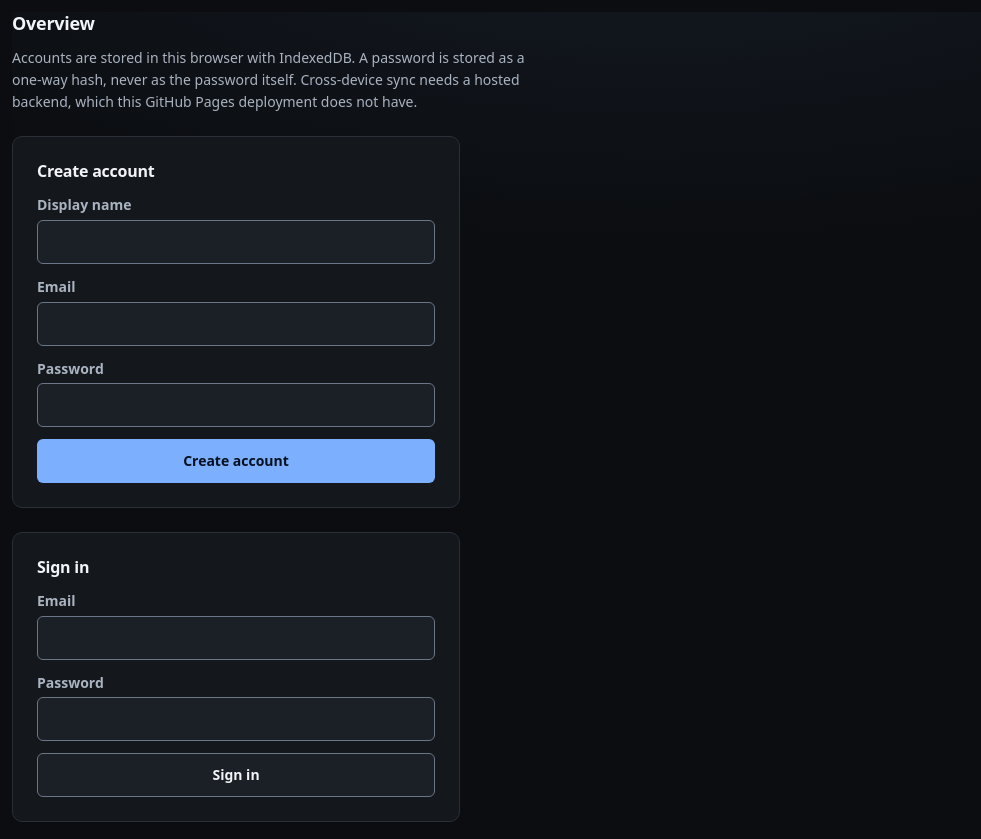
Test: account settings › creates an account and then offers sign out
Check: the heading "Create account" is shown, box x1=37 y1=160 x2=154 y2=182
Type "Alex" into the field labelled "Display name" at (236, 242), box x1=37 y1=220 x2=435 y2=264
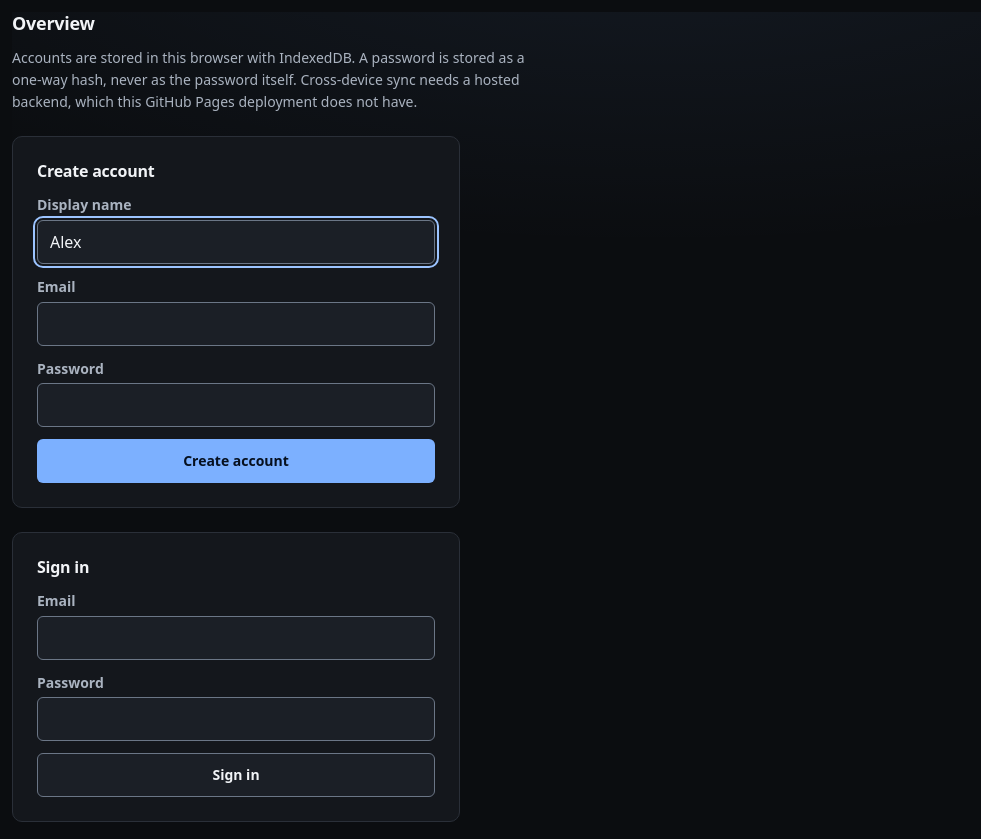
Type "alex@example.com" into the field labelled "Email" below "Display name" at (236, 324), box x1=37 y1=302 x2=435 y2=346
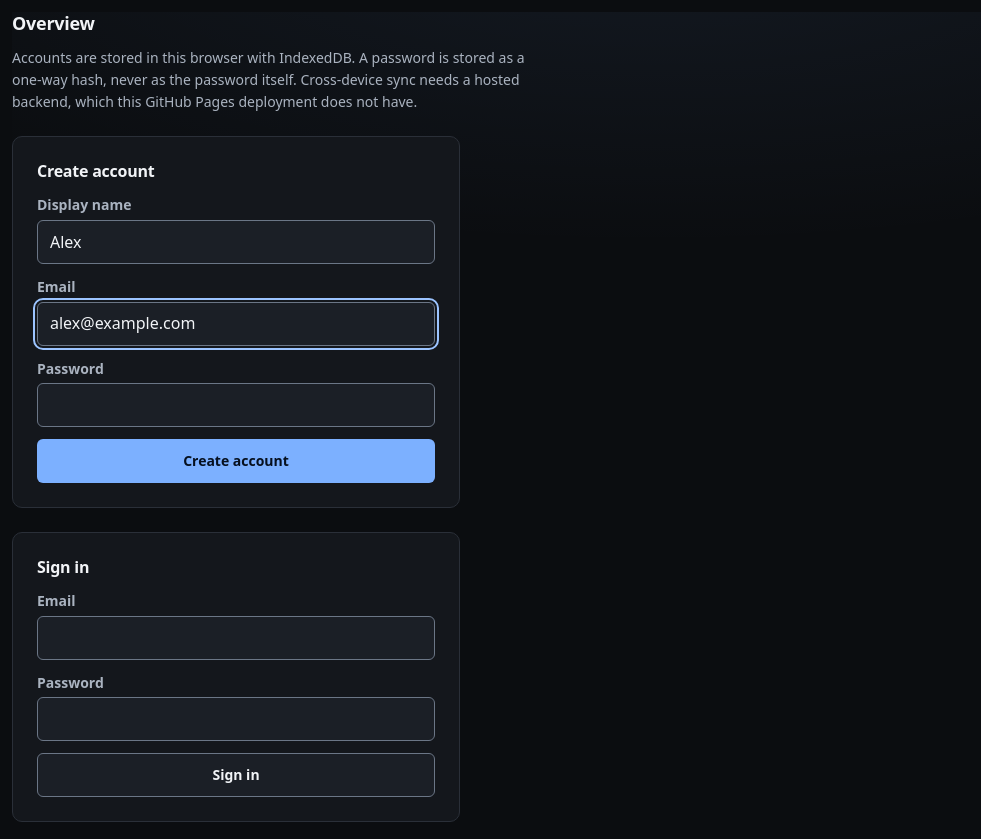
Type "correct horse" into the password field labelled "Password" below "Display name" at (236, 405), box x1=37 y1=383 x2=435 y2=427
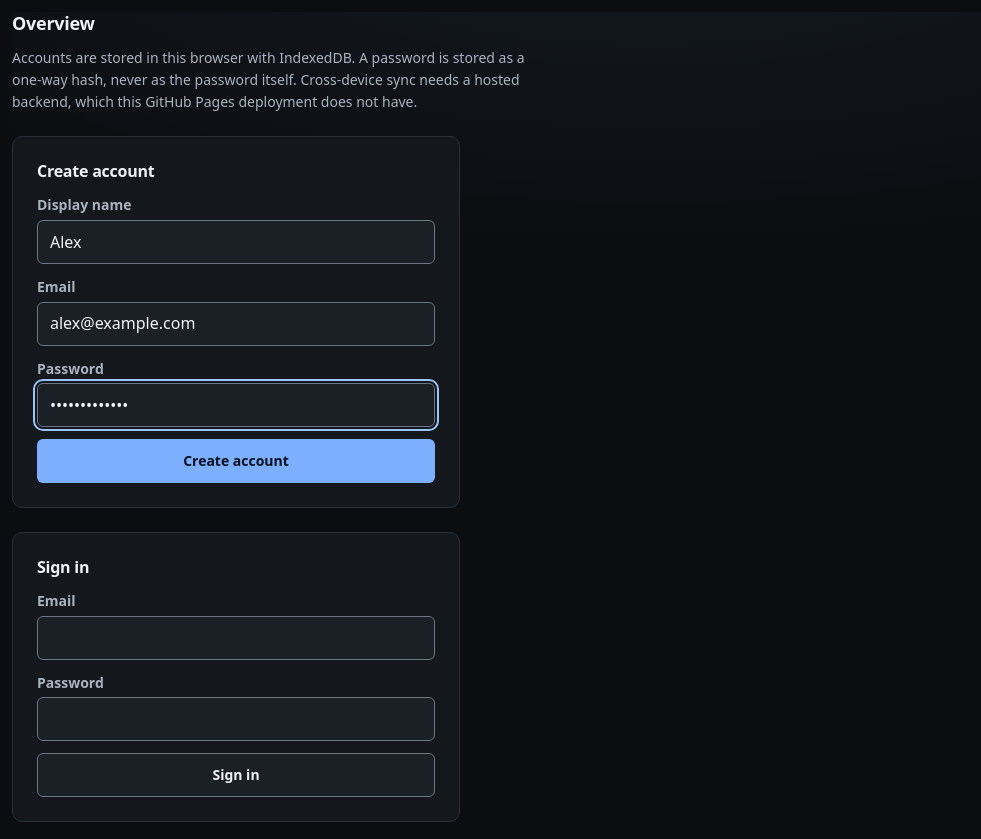
Click the button "Create account" at (236, 461), box x1=37 y1=439 x2=435 y2=483
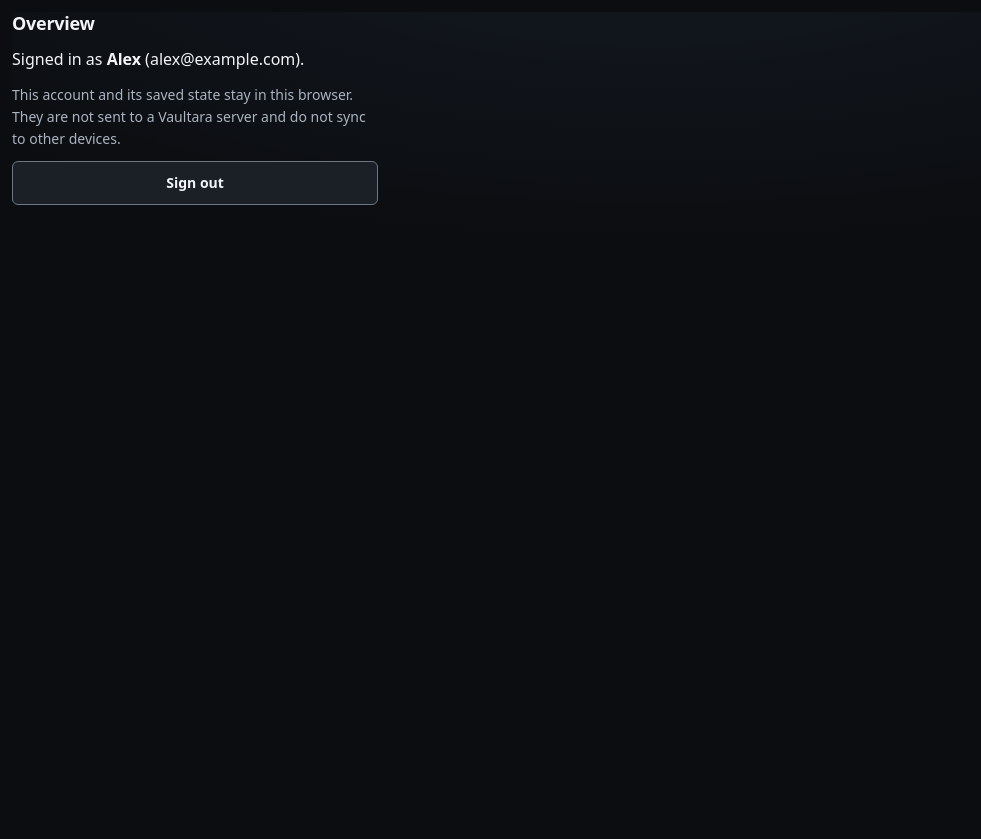
Check: the text "Signed in as Alex (alex@example.com)." is shown, box x1=12 y1=48 x2=304 y2=70
Check: the button "Sign out" is shown, box x1=12 y1=161 x2=378 y2=205
Check: the heading "Create account" is gone
